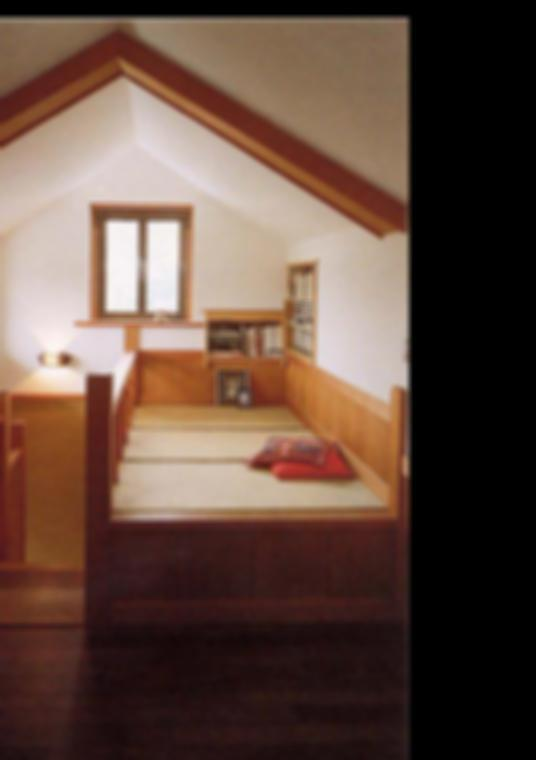Escaleras: (0, 424, 83, 625)
